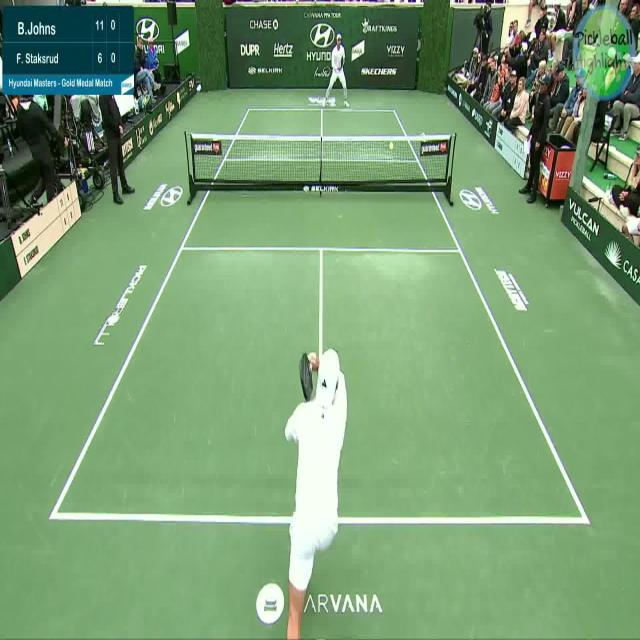ball: (389, 141, 394, 152)
